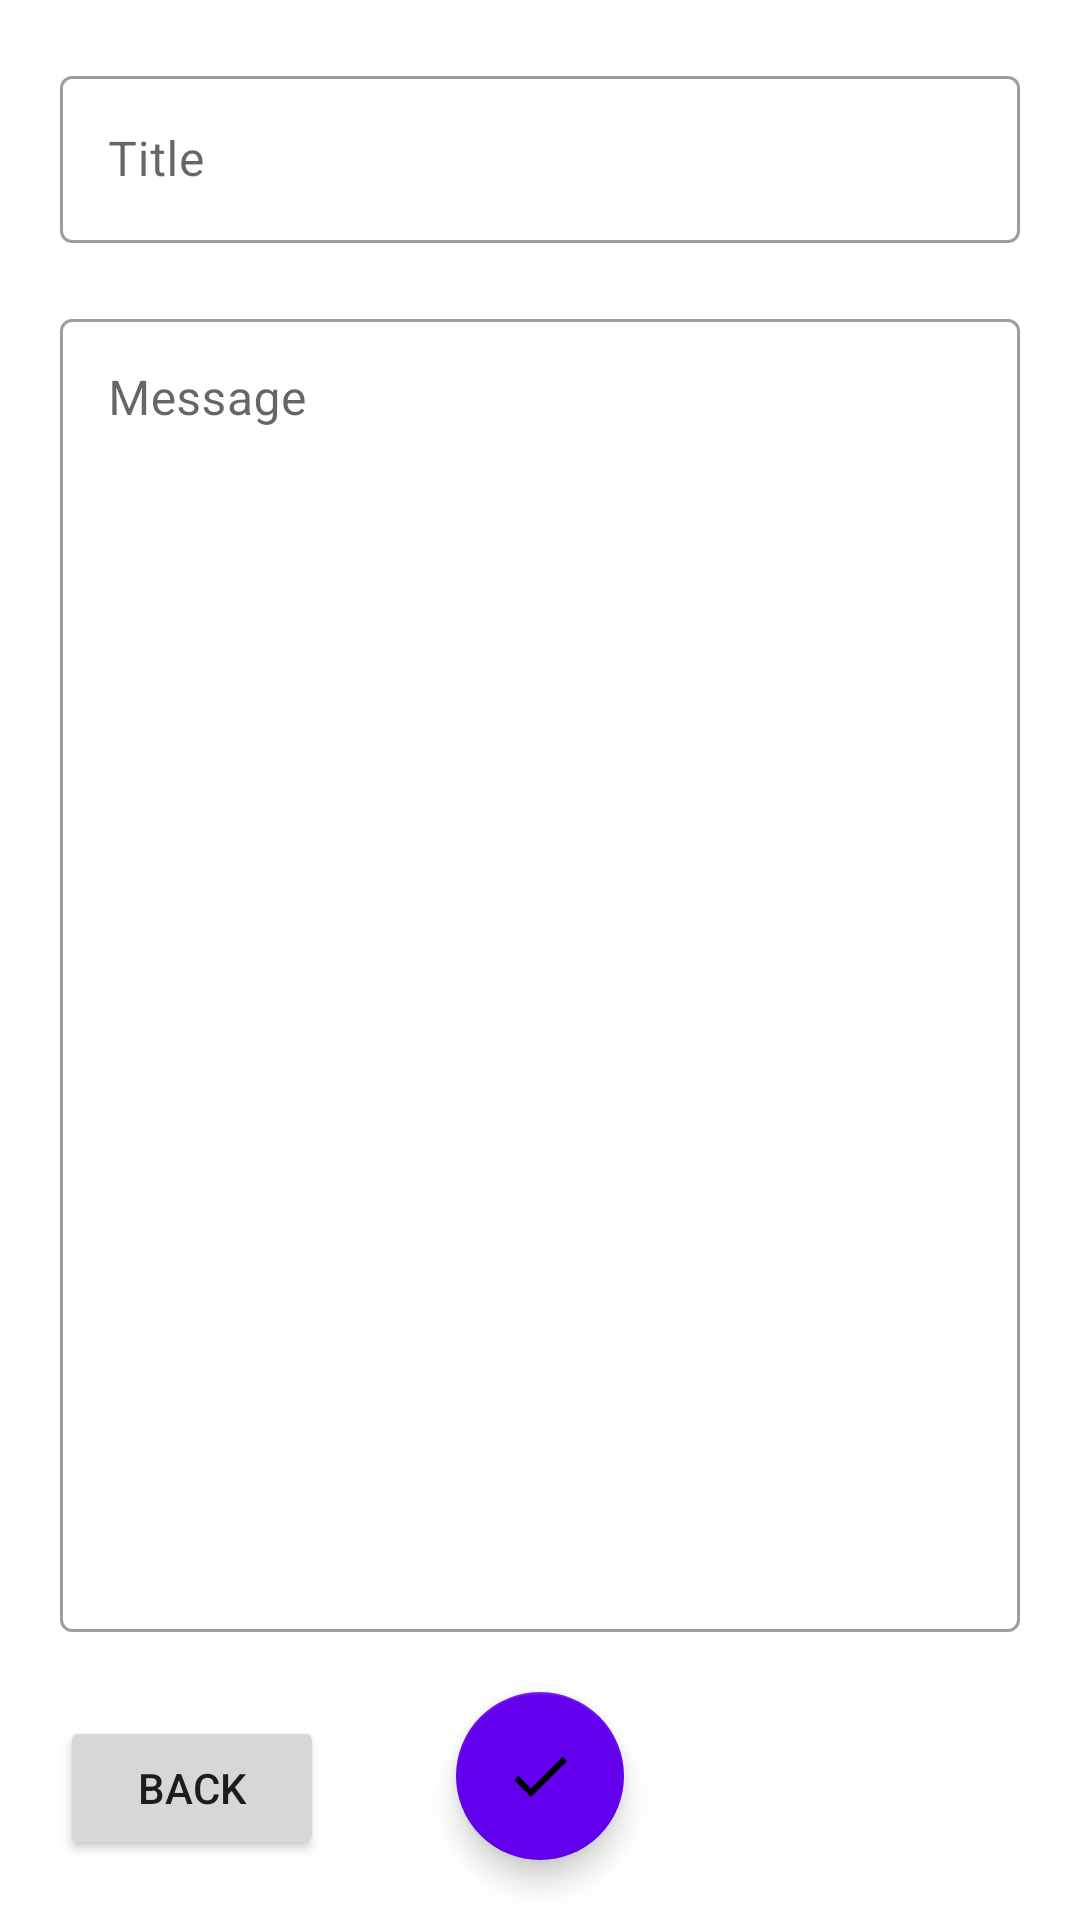

Locate icon controls on the screen. Image size 1080 × 1920, boxes as (x1, y1, x2, y2).
okey: (456, 1692, 624, 1860)
